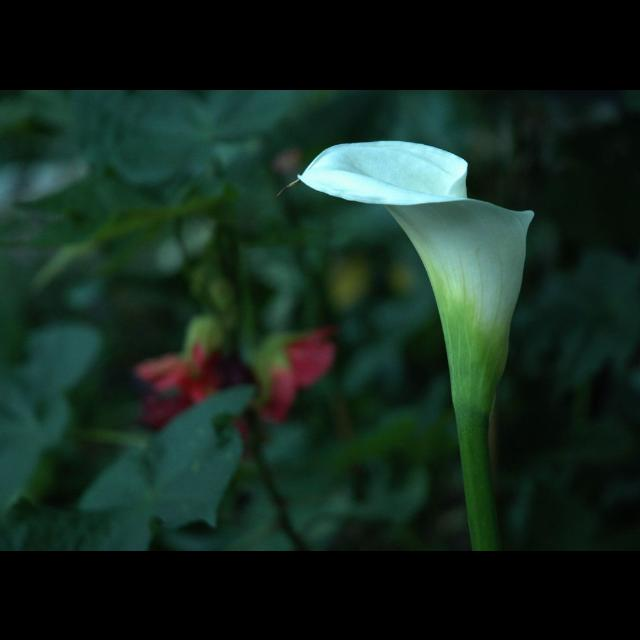Flower: (137, 340, 245, 442), (267, 320, 337, 424)
